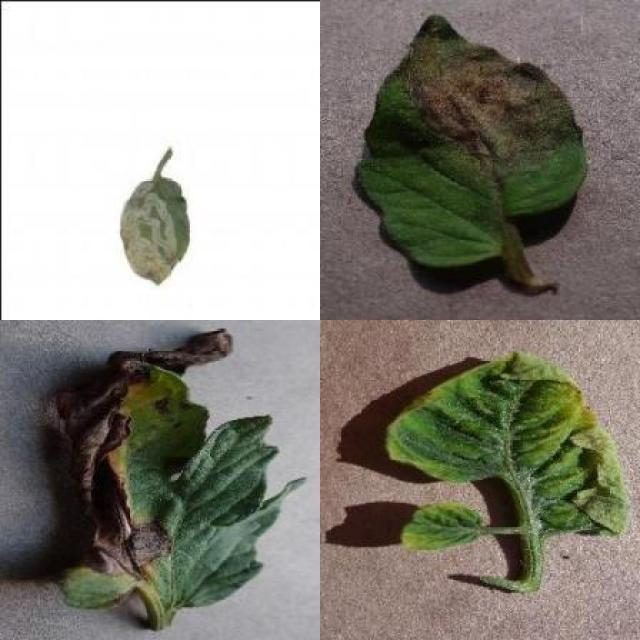Early Blight: (52, 358, 308, 613)
Late Blight: (353, 8, 588, 268)
Leaf Miner: (116, 175, 188, 285)
Yellow Leaf Curl Virus: (386, 350, 628, 540), (402, 501, 485, 552)
